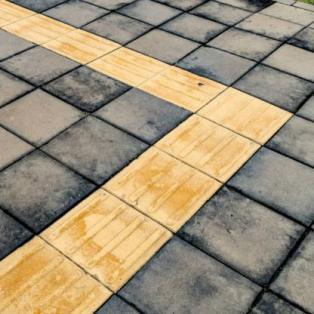Podoctatil: (0, 1, 293, 313)
